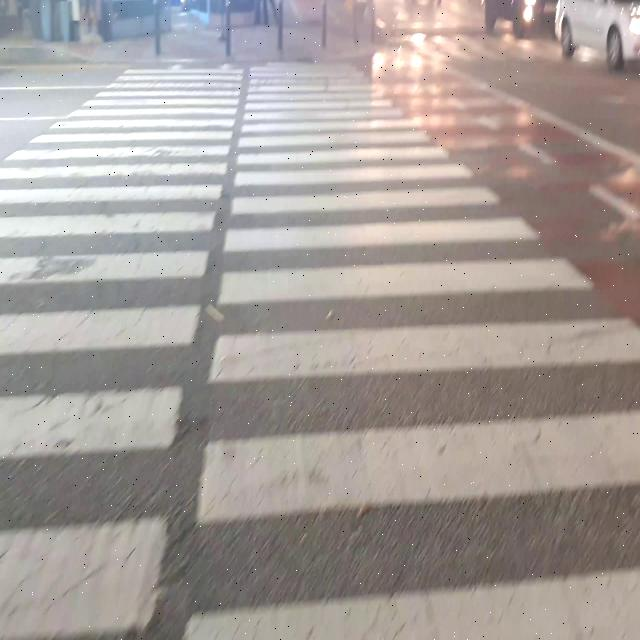crosswalk: (1, 59, 640, 638), (401, 26, 589, 63)
